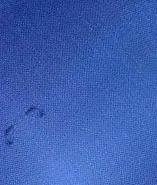knot: (22, 103, 46, 120), (3, 122, 17, 148)
